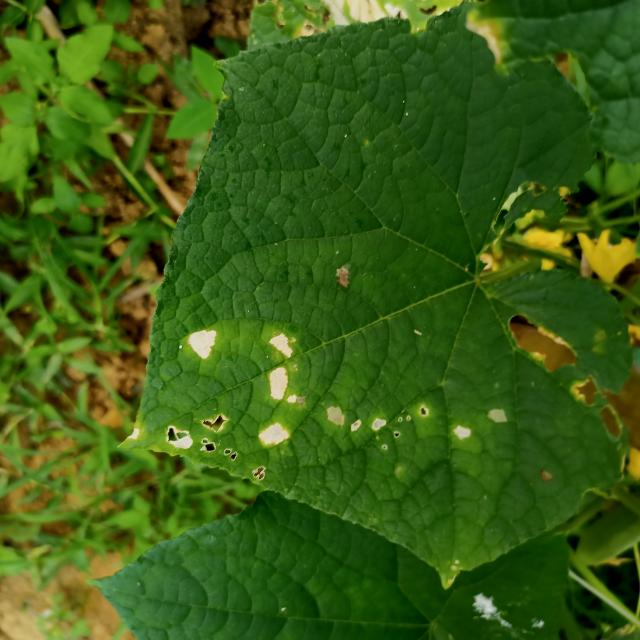disease_cucumber: (128, 305, 313, 486), (320, 377, 518, 497)
